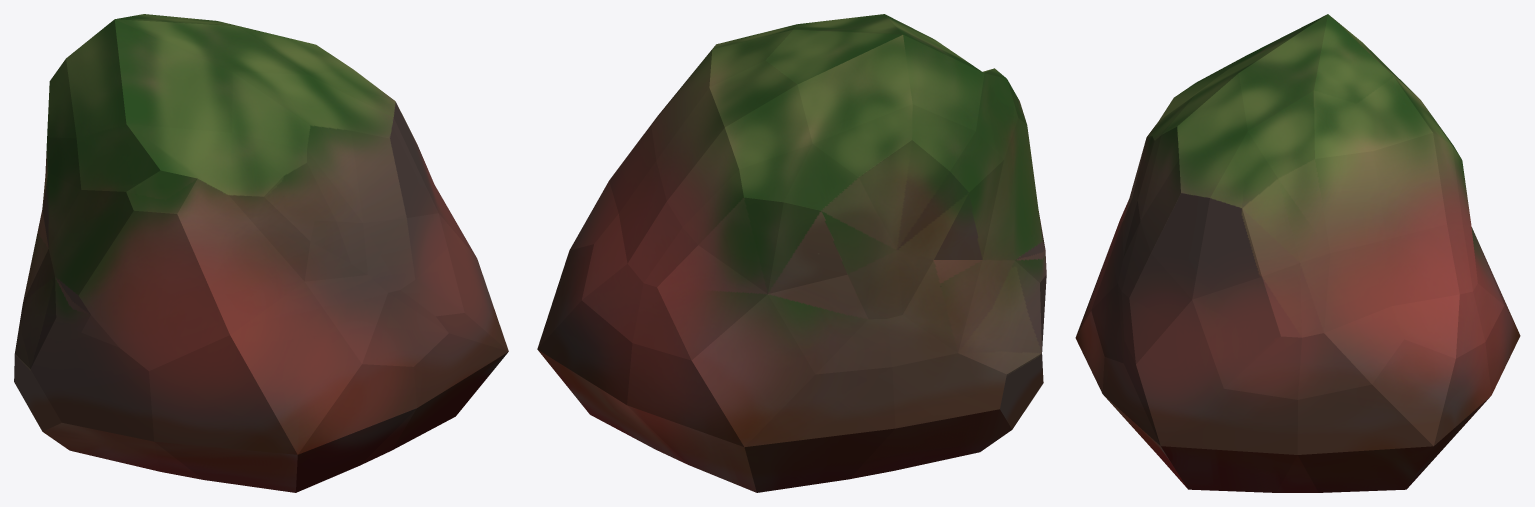
Rendered from Rock_005.fbx.
3 renders of one model, left to right at view 1: azimuth 30°, elevation 25°; view 2: azimuth 150°, elevation 25°; view 3: azimuth 270°, elevation 25°, orthographic. The views are drawn at different scales.
Visible parts, largest first — view 1: Rock_005; view 2: Rock_005; view 3: Rock_005.
Part boxes in pixels (x1,y1,x2,y2): Rock_005: (14,14,508,492); Rock_005: (537,14,1046,492); Rock_005: (1075,14,1520,492).
Size of the model in its own units: 914 by 850 by 927.
